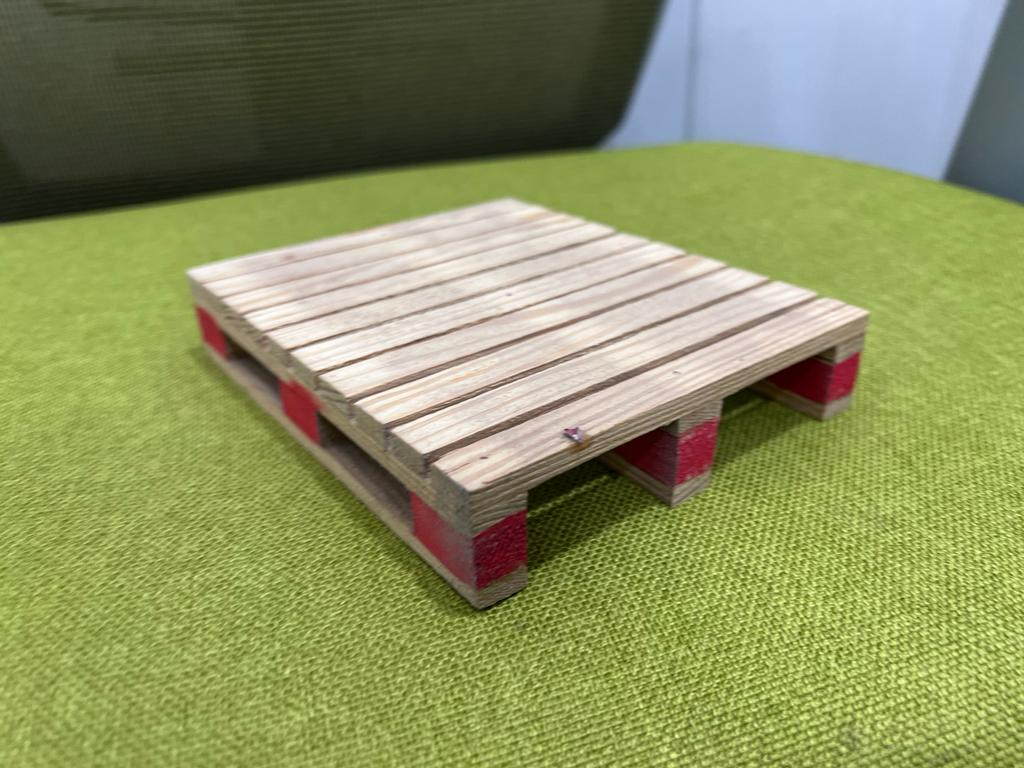pallet: (142, 194, 891, 627)
